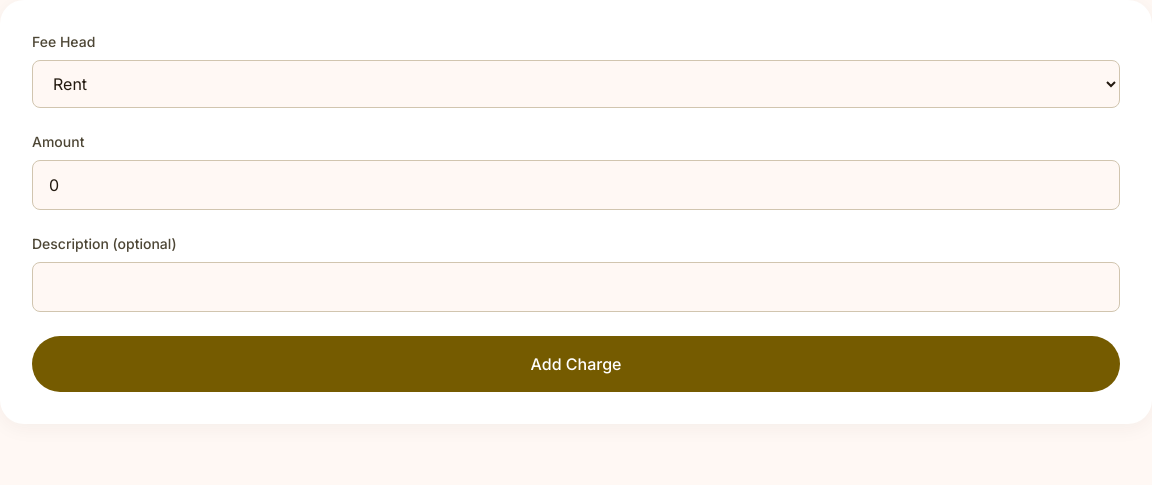
Test: AddChargeForm › shows an error when adding rejects
The width and height of the screenshot is (1152, 485).
Replace the text in the number field labelled "Amount" with "500": (576, 185) [32,160,1120,210]
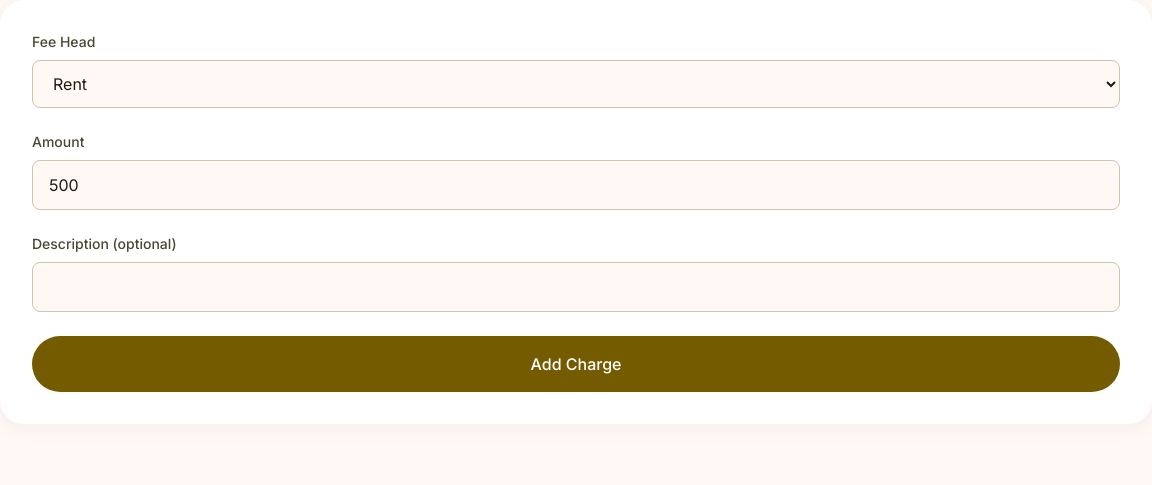
Click the button "Add Charge": (576, 364) [32,336,1120,392]
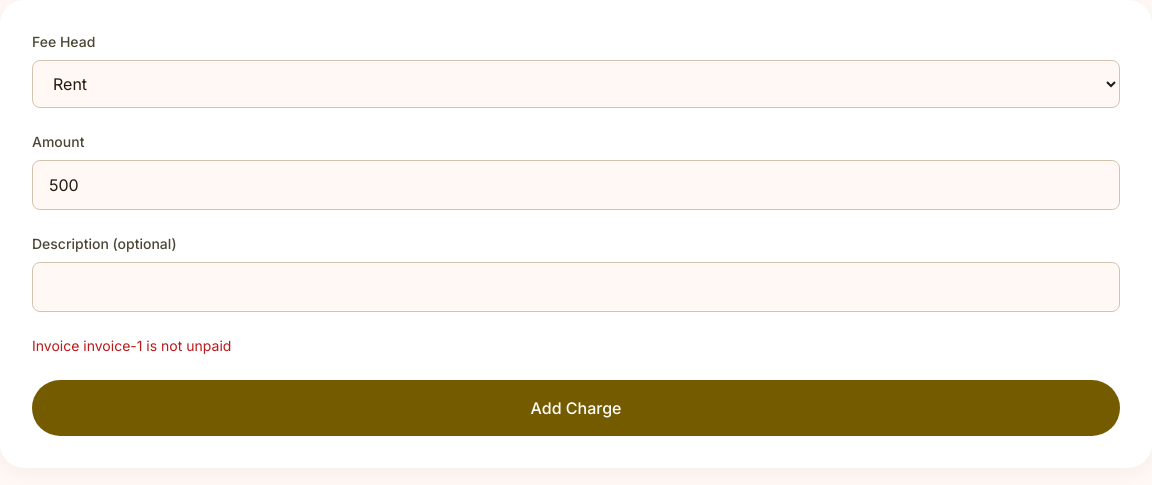
Check: the text "Invoice invoice-1 is not unpaid" is shown, box [32,337,231,354]
